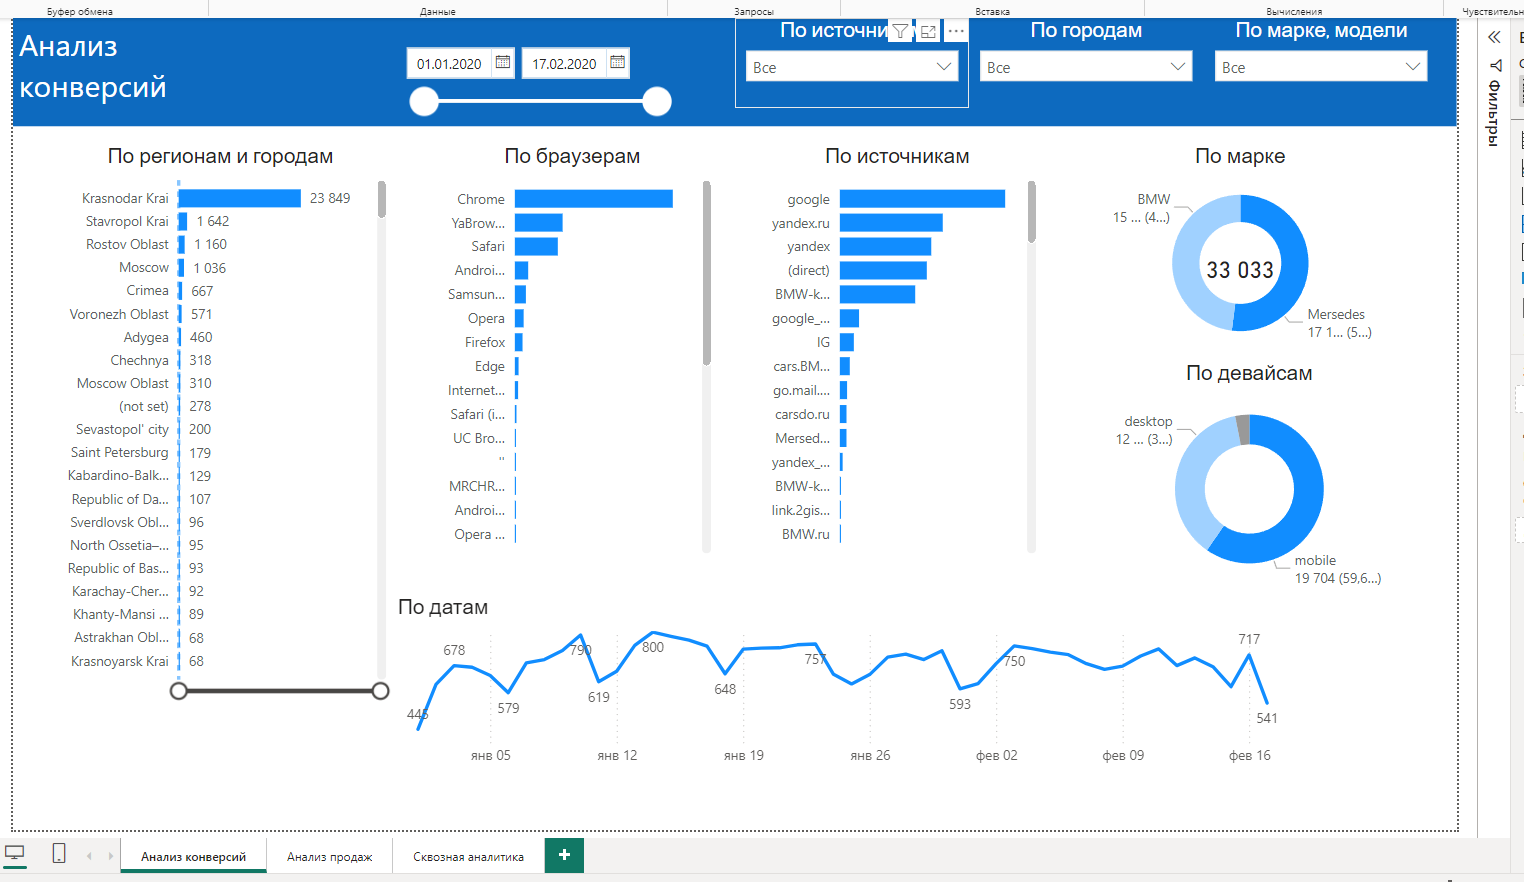

The dashboard page shown, as its layout file describes it:
{"tool":"powerbi","page":{"name":"Анализ конверсий","canvas":[1280,720],"ordinal":0},"visuals":[{"type":"textbox","box":[0,0,1280,96],"z":0},{"type":"slicer","title":"По марке, модели","fields":{"Values":["Маркетинговые данные.Марка","Маркетинговые данные.Модель"]},"box":[1056,0,208,80],"z":1000},{"type":"clusteredBarChart","title":"По регионам и городам","fields":{"Category":["Маркетинговые данные.Region","Маркетинговые данные.City"],"Y":["Sum(Маркетинговые данные.Конверсия)"]},"box":[32,112,304,496],"z":2000},{"type":"clusteredBarChart","title":"По браузерам","fields":{"Category":["Маркетинговые данные.Browser"],"Y":["Sum(Маркетинговые данные.Конверсия)"]},"box":[368,112,256,368],"z":3000},{"type":"donutChart","title":"По марке","fields":{"Y":["Sum(Маркетинговые данные.Конверсия)"],"Category":["Маркетинговые данные.Марка","Маркетинговые данные.Модель"]},"box":[960,112,256,192],"z":4000,"group":"g1"},{"type":"group","id":"g1","title":"Группа 1","box":[960,112,256,192],"z":4000},{"type":"card","title":"Конверсии","fields":{"Values":["Sum(Маркетинговые данные.Конверсия)"]},"box":[1024,208,128,32],"z":5000,"group":"g1"},{"type":"donutChart","title":"По девайсам","fields":{"Y":["Sum(Маркетинговые данные.Конверсия)"],"Category":["Маркетинговые данные.Device Category"]},"box":[960,304,272,208],"z":5000},{"type":"lineChart","title":"По датам","fields":{"Y":["Sum(Маркетинговые данные.Конверсия)"],"Category":["Маркетинговые данные.Date"]},"box":[336,512,800,160],"z":6000},{"type":"clusteredBarChart","title":"По источникам","fields":{"Category":["Маркетинговые данные.Source"],"Y":["Sum(Маркетинговые данные.Конверсия)"]},"box":[656,112,256,368],"z":7000},{"type":"slicer","title":"По городам","fields":{"Values":["Маркетинговые данные.City"]},"box":[848,0,208,80],"z":8000},{"type":"slicer","title":"По источникам","fields":{"Values":["Маркетинговые данные.Medium","Маркетинговые данные.Source"]},"box":[640,0,208,80],"z":9000},{"type":"slicer","fields":{"Values":["Маркетинговые данные.Date"]},"box":[336,16,256,80],"z":10000}]}

Visuals, with their boxes on the page's 1280x720 design canvas (x1, y1, x2, y2). These are canvas units, not pixel positions in the 1524x882 screenshot, which may show the page scaled, cropped or inside an application window:
textbox: rect(0, 0, 1280, 96)
"По марке, модели" slicer: rect(1056, 0, 1264, 80)
"По регионам и городам" clusteredBarChart: rect(32, 112, 336, 608)
"По браузерам" clusteredBarChart: rect(368, 112, 624, 480)
"По марке" donutChart: rect(960, 112, 1216, 304)
"Группа 1" group: rect(960, 112, 1216, 304)
"Конверсии" card: rect(1024, 208, 1152, 240)
"По девайсам" donutChart: rect(960, 304, 1232, 512)
"По датам" lineChart: rect(336, 512, 1136, 672)
"По источникам" clusteredBarChart: rect(656, 112, 912, 480)
"По городам" slicer: rect(848, 0, 1056, 80)
"По источникам" slicer: rect(640, 0, 848, 80)
slicer - Маркетинговые данные.Date: rect(336, 16, 592, 96)
